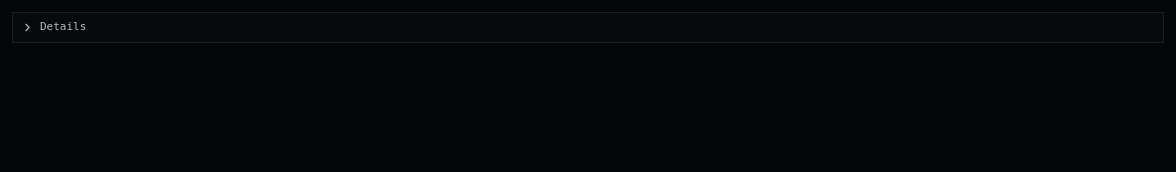
Test case: Collapsible › toggles the disclosure state on click
Later steps or results of the test are not shown.
Click the button "Details": coordinates (63, 26) [13,13,1163,42]
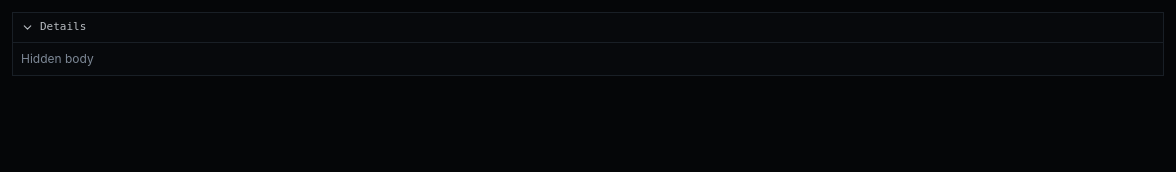
Expected: the text named "Details" is shown, [13,42,1163,74]
Expected: the text named "Details" reads "Hidden body", [21,50,94,66]
